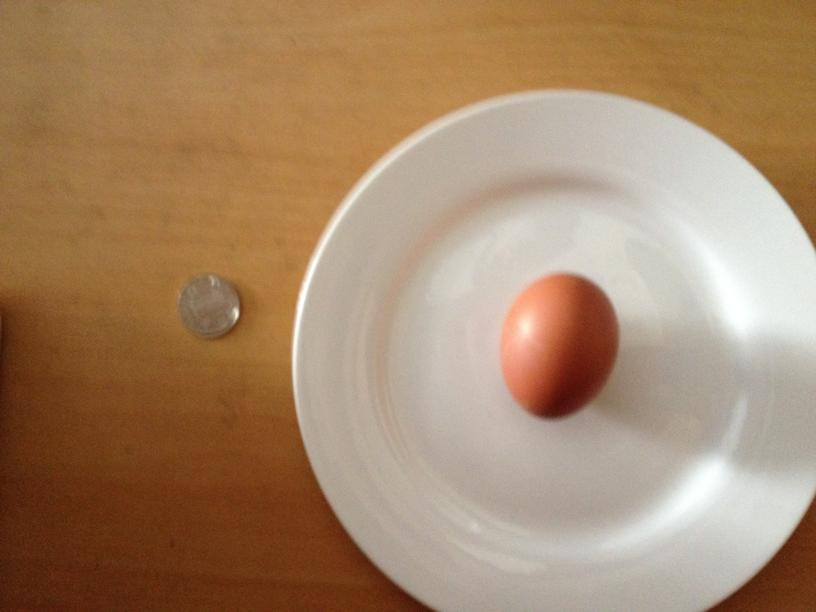coin: (176, 272, 244, 340)
egg: (494, 266, 621, 421)
